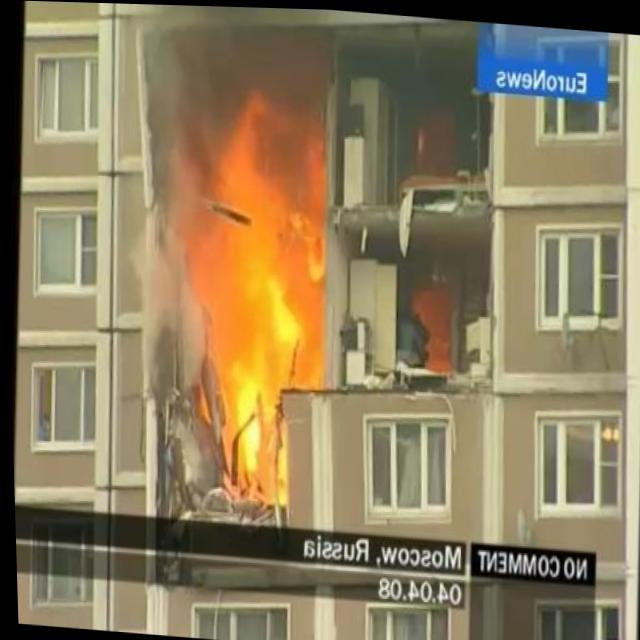fire: (142, 64, 343, 516), (410, 284, 454, 365), (412, 131, 428, 162)
